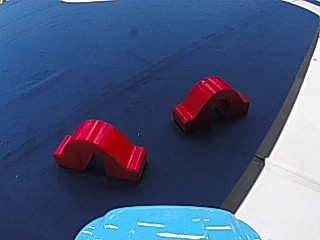tractor: (49, 116, 151, 182), (169, 75, 251, 132)
